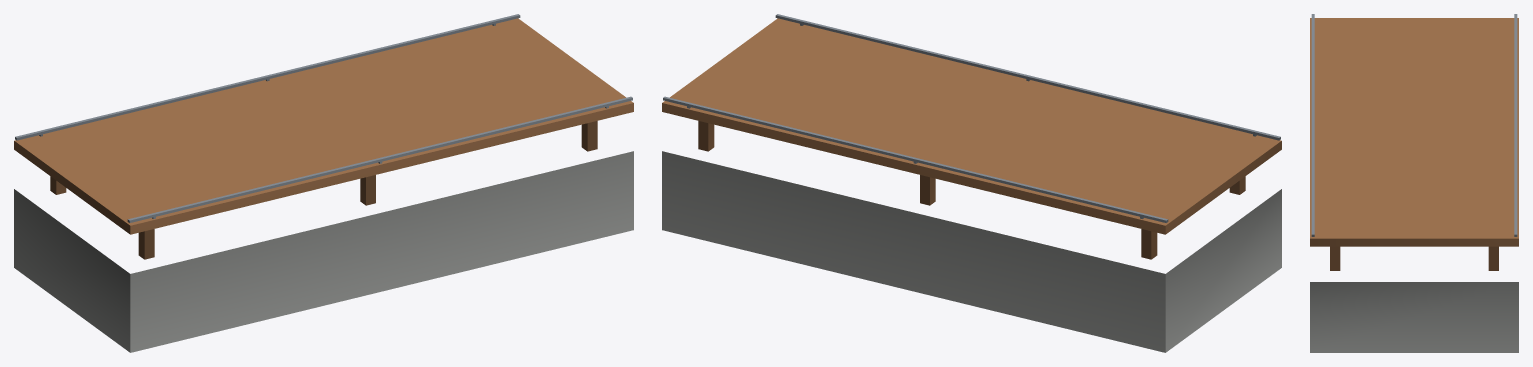
The model's file is promenade-segment.glb.
3 renders of one model, left to right at view 1: azimuth 30°, elevation 25°; view 2: azimuth 150°, elevation 25°; view 3: azimuth 270°, elevation 25°, orthographic. The views are drawn at different scales.
Parts seen in each view (by area): view 1: promenade-segment; view 2: promenade-segment; view 3: promenade-segment.
Part boxes in pixels (x1=…): promenade-segment: x1=14, y1=14, x2=633, y2=352; promenade-segment: x1=662, y1=14, x2=1281, y2=352; promenade-segment: x1=1310, y1=14, x2=1518, y2=352.
Bounding box in the file's own units: 20 × 5 × 8.
